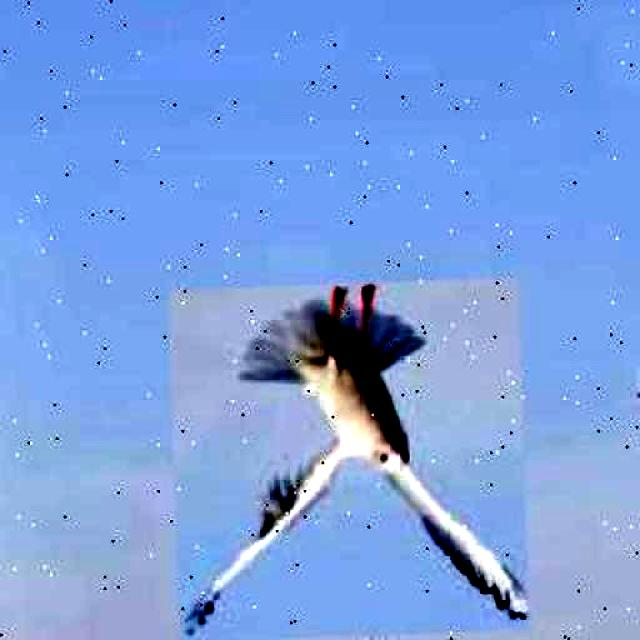airplane: (168, 278, 529, 640)
